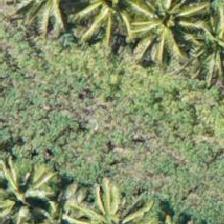coconut_tree: (119, 0, 209, 64), (59, 0, 149, 48), (0, 157, 64, 223)
